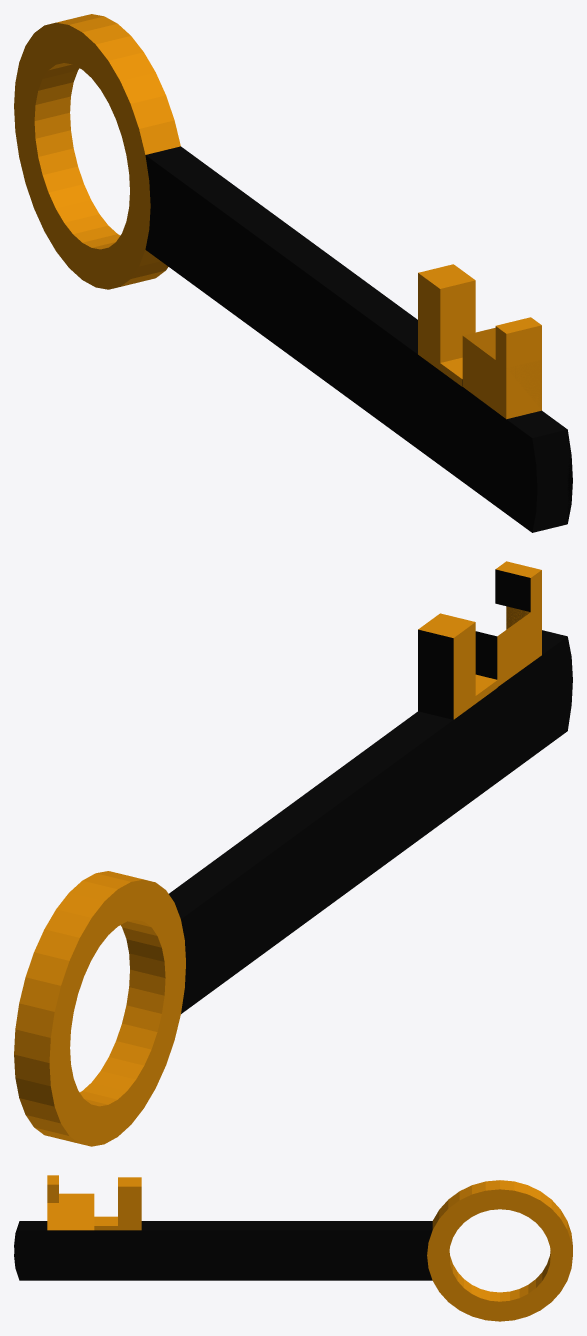
Rendered from keys.fbx.
3 views of the same model, one above another, from view 1: azimuth 30°, elevation 25°; view 2: azimuth 150°, elevation 25°; view 3: azimuth 270°, elevation 25° (orthographic). The views are drawn at different scales.
Parts seen in each view (by area): view 1: Cylinder; view 2: Cylinder; view 3: Cylinder.
Boxes of the visible parts, x1,y1,x2,y2 form: Cylinder: [14, 14, 572, 532]; Cylinder: [14, 561, 572, 1146]; Cylinder: [14, 1175, 572, 1321].
Size of the model in its own units: 30 by 207 by 766.
